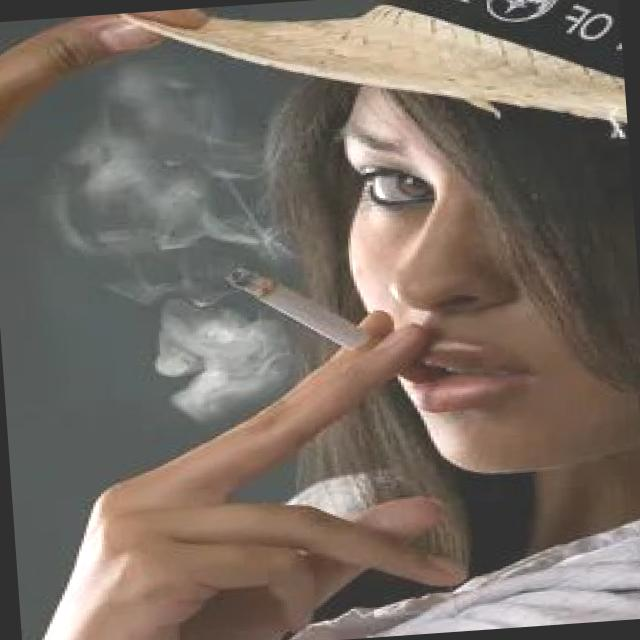cigarette: (220, 258, 386, 360)
